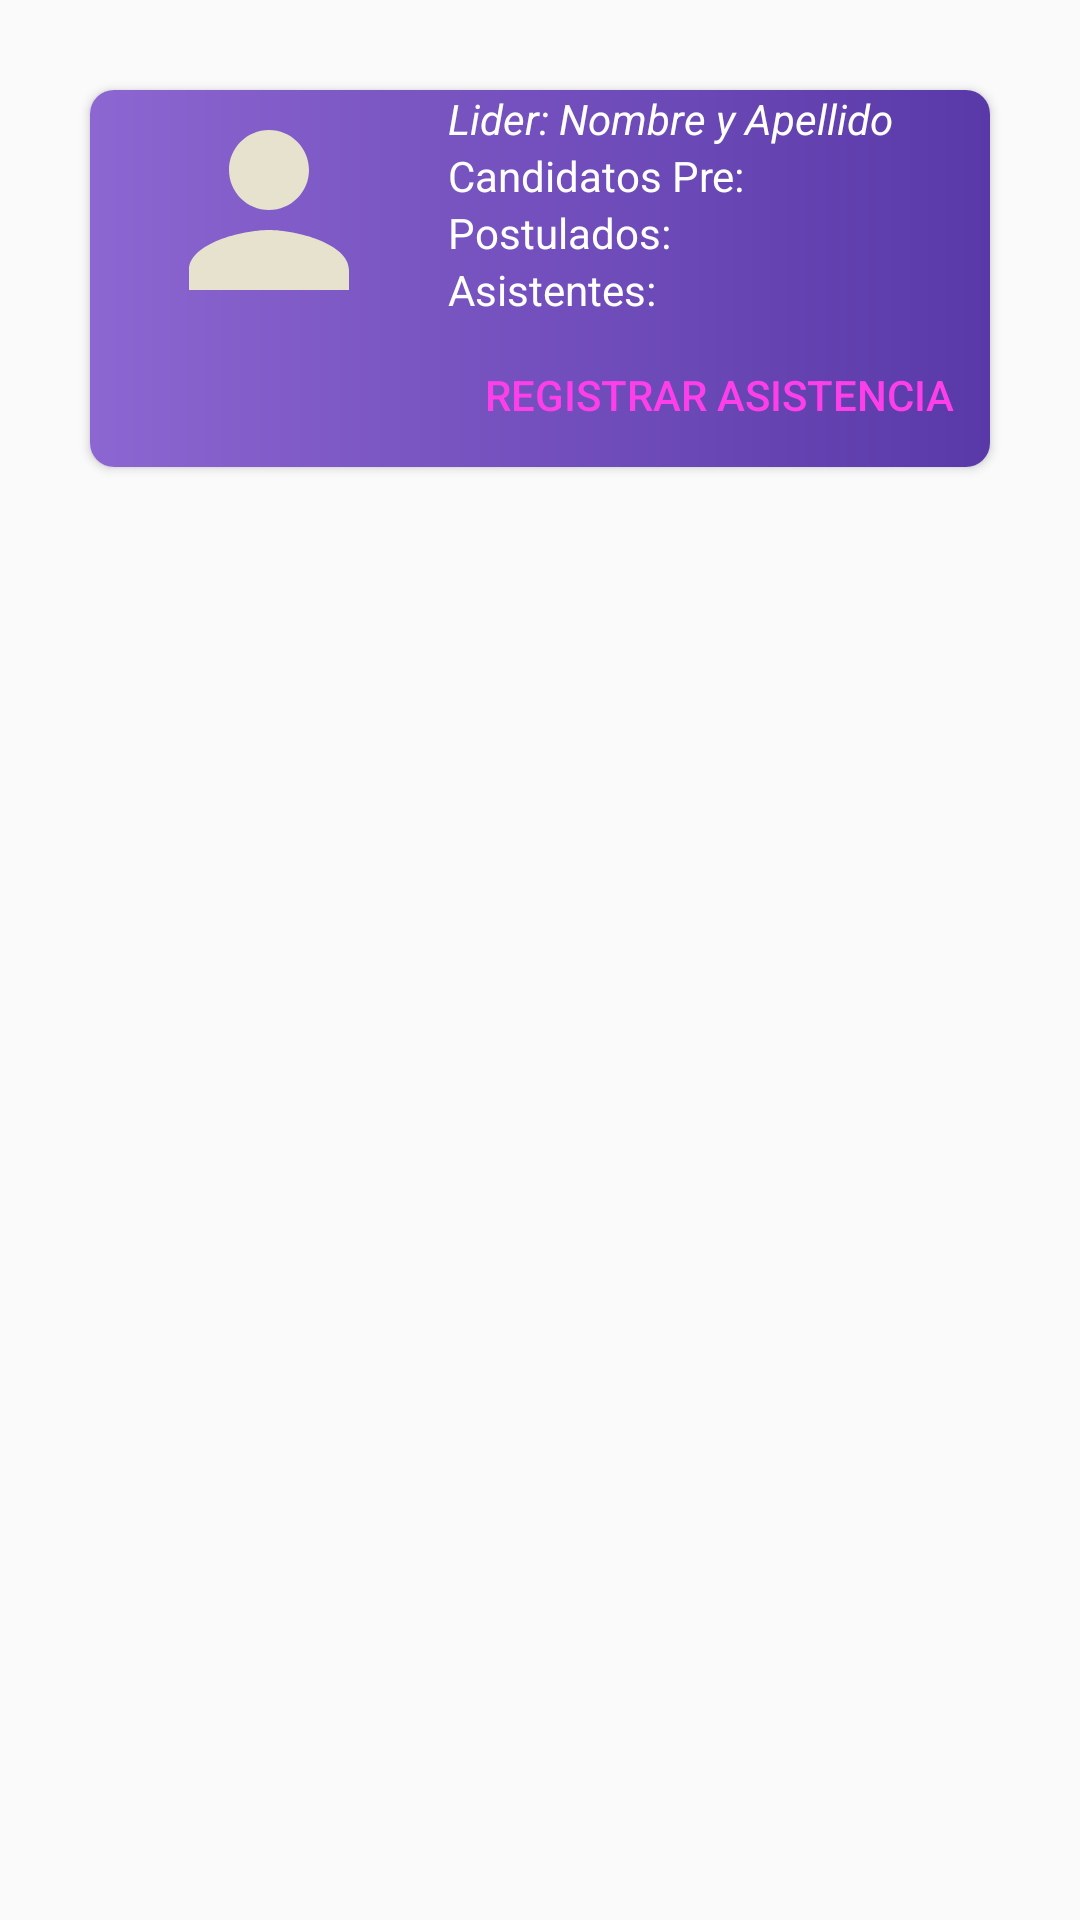

Where to tap for icons on this 1080px×1920px app screen, as point (x, y):
person: point (269, 210)
